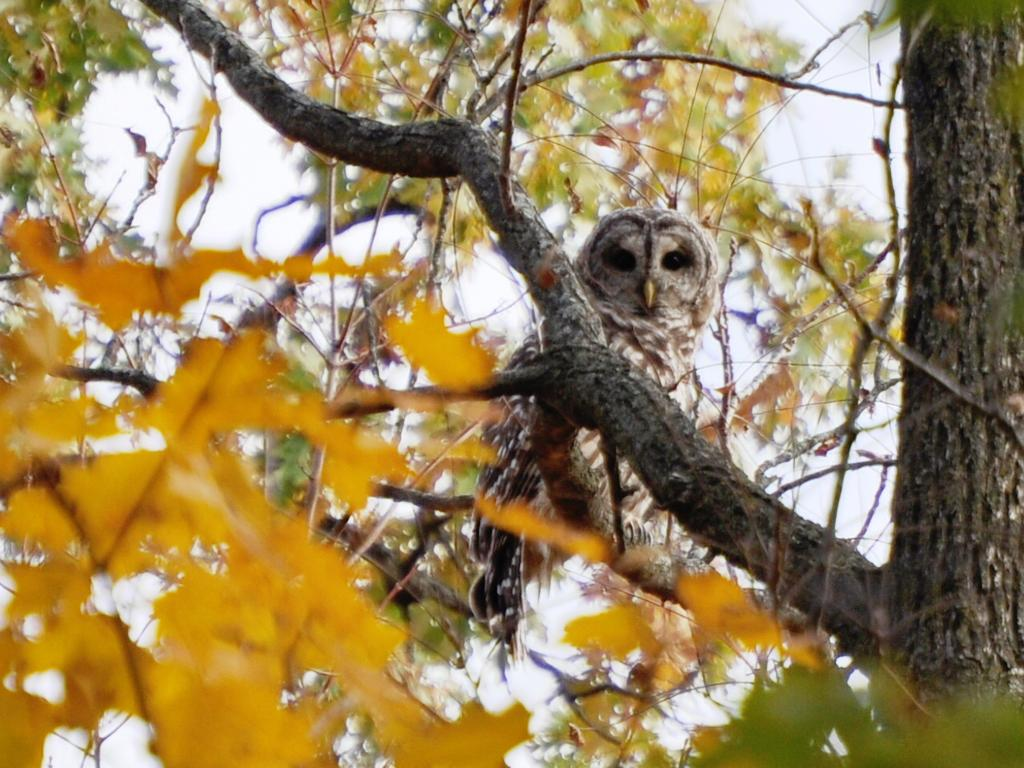Owl: (474, 207, 718, 674)
